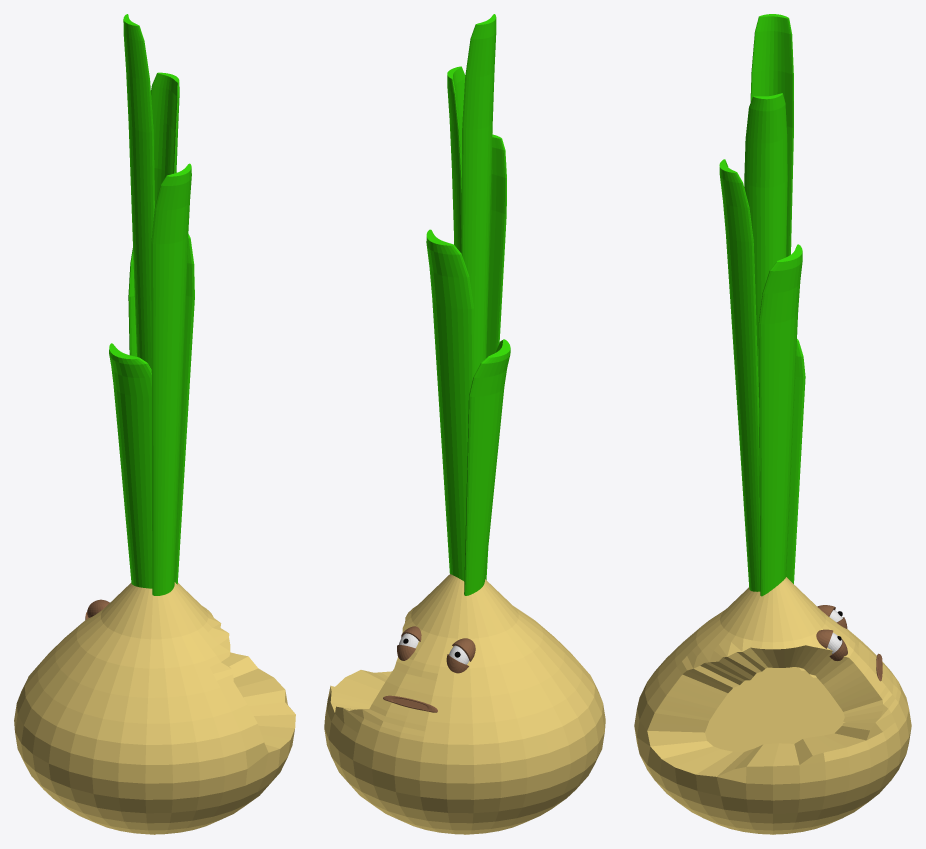
File: onion.fbx
3 views of the same model, side by side, from view 1: azimuth 30°, elevation 25°; view 2: azimuth 150°, elevation 25°; view 3: azimuth 270°, elevation 25° (orthographic).
Parts seen in each view (by area): view 1: Sphere, Cylinder.002, Cylinder, Cylinder.004, Cylinder.001, Cylinder.003; view 2: Sphere, Cylinder.001, Cylinder.004, Cylinder, Cylinder.002, Cylinder.003; view 3: Sphere, Cylinder.001, Cylinder.002, Cylinder.003, Cylinder.004, Cylinder.
Part boxes in pixels (x1,y1,x2,y2): Sphere: (14,582,295,834); Cylinder.002: (151,163,191,595); Cylinder: (109,343,152,588); Cylinder.004: (123,14,154,369); Cylinder.001: (128,234,194,584); Cylinder.003: (151,72,179,206); Sphere: (324,574,605,834); Cylinder.001: (426,229,474,581); Cylinder.004: (461,14,496,373); Cylinder: (464,339,510,595); Cylinder.002: (454,134,506,579); Cylinder.003: (447,66,465,253); Sphere: (634,577,911,834); Cylinder.001: (758,244,802,596); Cylinder.002: (719,159,760,591); Cylinder.003: (744,93,787,405); Cylinder.004: (750,14,793,256); Cylinder: (786,339,805,583).
Size of the model in its own units: 246 by 791 by 246.
